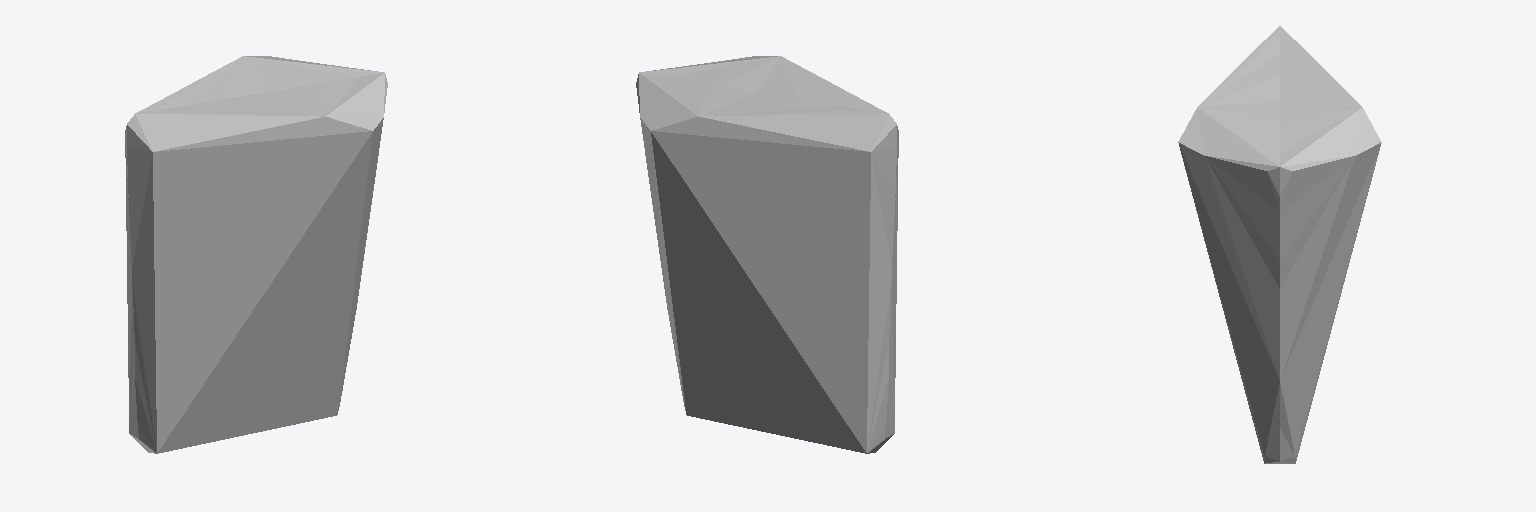
Rendered from fechado.obj.
The picture shows the model from 3 angles: view 1: azimuth 30°, elevation 25°; view 2: azimuth 150°, elevation 25°; view 3: azimuth 270°, elevation 25°; orthographic projection.
Visible parts, largest first — view 1: grp1; view 2: grp1; view 3: grp1.
Boxes of the visible parts, <box> form: grp1: <box>125,56,387,453</box>; grp1: <box>636,56,898,453</box>; grp1: <box>1178,26,1381,463</box>.
Size of the model in its own units: 192 by 244 by 131.